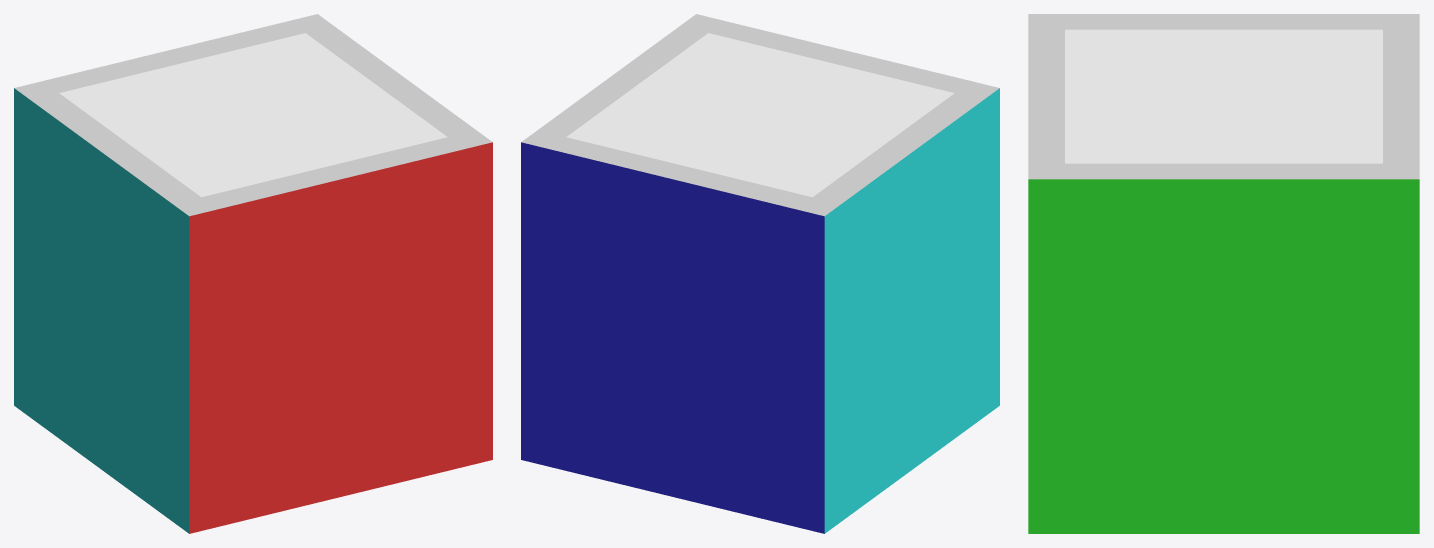
Rendered from cube-monkey.obj.
3 views of the same model, side by side, from view 1: azimuth 30°, elevation 25°; view 2: azimuth 150°, elevation 25°; view 3: azimuth 270°, elevation 25° (orthographic). The views are drawn at different scales.
Parts seen in each view (by area): view 1: Cube; view 2: Cube; view 3: Cube.
Part boxes in pixels (box(x1,y1,x2,y2)): Cube: box(14, 14, 492, 533); Cube: box(521, 14, 999, 533); Cube: box(1028, 14, 1419, 533).
Bounding box in the file's own units: 10 × 10 × 10.
